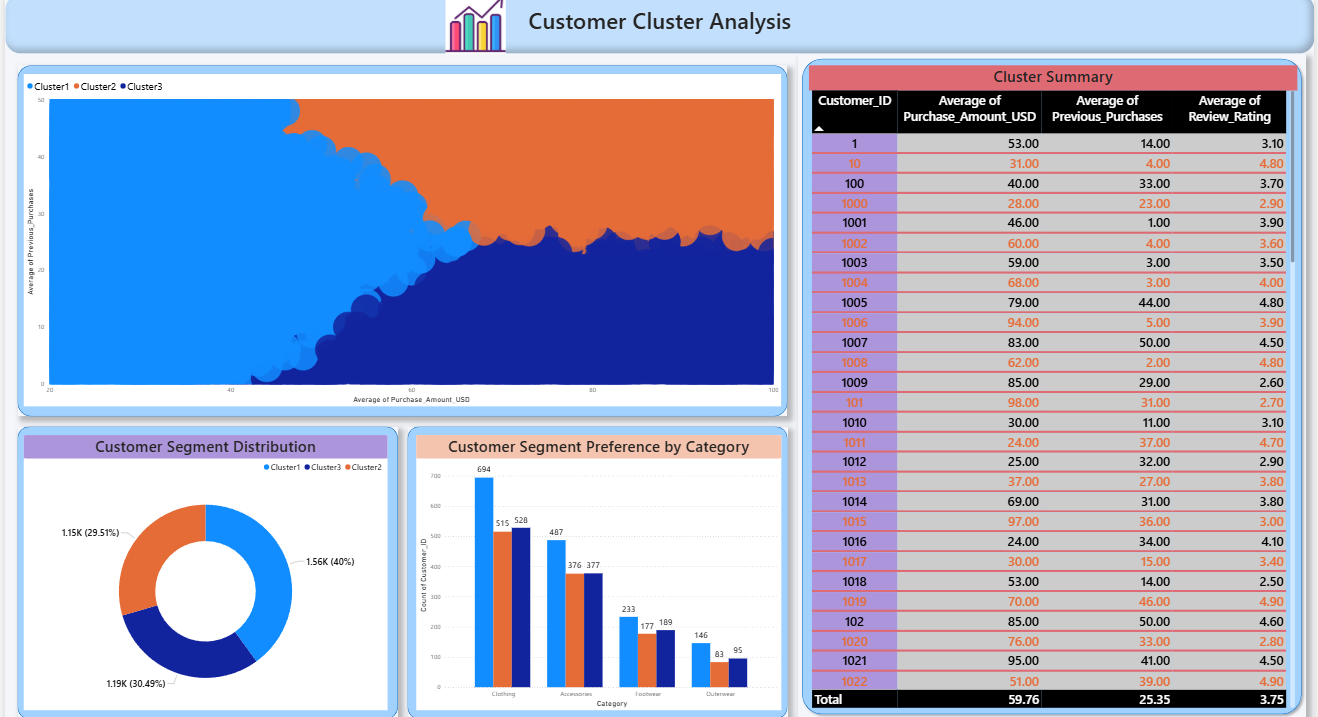

Layout of this report page (visuals, bound fields, positions):
{"tool":"powerbi","page":{"name":"Customer Clustering","canvas":[2500,1400],"ordinal":2},"visuals":[{"type":"shape","box":[1512.6,114.5,971,1269.3],"z":0},{"type":"shape","box":[23.9,136,1469.7,670.4],"z":1000},{"type":"tableEx","title":"Cluster Summary","fields":{"Values":["project_shopping_trends.Customer_ID","Avg(project_shopping_trends.Purchase_Amount_USD)","Avg(project_shopping_trends.Previous_Purchases)","Avg(project_shopping_trends.Review_Rating)"]},"box":[1534.1,136,932.9,1231.1],"z":2000},{"type":"shape","box":[23.9,825.5,726,558.3],"z":3000},{"type":"donutChart","title":"Customer Segment Distribution","fields":{"Y":["CountNonNull(project_shopping_trends.Customer_ID)"],"Category":["project_shopping_trends.Customer_ID (clusters) 4"]},"box":[35.8,842.2,694.3,524.9],"z":4000},{"type":"shape","box":[768.2,825.5,725.3,558.3],"z":5000},{"type":"textbox","box":[0,0,2500.4,114.5],"z":6000},{"type":"clusteredColumnChart","title":"Customer Segment Preference by Category","fields":{"Category":["project_shopping_trends.Category"],"Series":["project_shopping_trends.Customer_ID (clusters) 4"],"Y":["CountNonNull(project_shopping_trends.Customer_ID)"]},"box":[784.9,842.2,696.7,524.9],"z":7000},{"type":"scatterChart","fields":{"Category":["project_shopping_trends.Customer_ID"],"X":["Avg(project_shopping_trends.Purchase_Amount_USD)"],"Y":["Avg(project_shopping_trends.Previous_Purchases)"],"Size":["Avg(project_shopping_trends.Review_Rating)"],"Series":["project_shopping_trends.Customer_ID (clusters) 4"]},"box":[35.8,152.7,1445.8,634.6],"z":8000},{"type":"image","box":[830.3,0,136,114.5],"z":9000}]}

Visuals, with their boxes in screenshot pixels (x1, y1, x2, y2), scaled from the page's 2500x1400 canvas onto the 1318x717 screenshot:
shape: {"left": 797, "top": 59, "right": 1309, "bottom": 709}
shape: {"left": 13, "top": 70, "right": 787, "bottom": 413}
"Cluster Summary" tableEx: {"left": 809, "top": 70, "right": 1301, "bottom": 700}
shape: {"left": 13, "top": 423, "right": 395, "bottom": 709}
"Customer Segment Distribution" donutChart: {"left": 19, "top": 431, "right": 385, "bottom": 700}
shape: {"left": 405, "top": 423, "right": 787, "bottom": 709}
textbox: {"left": 0, "top": 0, "right": 1317, "bottom": 59}
"Customer Segment Preference by Category" clusteredColumnChart: {"left": 414, "top": 431, "right": 781, "bottom": 700}
scatterChart - project_shopping_trends.Customer_ID x Avg(project_shopping_trends.Purchase_Amount_USD): {"left": 19, "top": 78, "right": 781, "bottom": 403}
image: {"left": 438, "top": 0, "right": 509, "bottom": 59}
